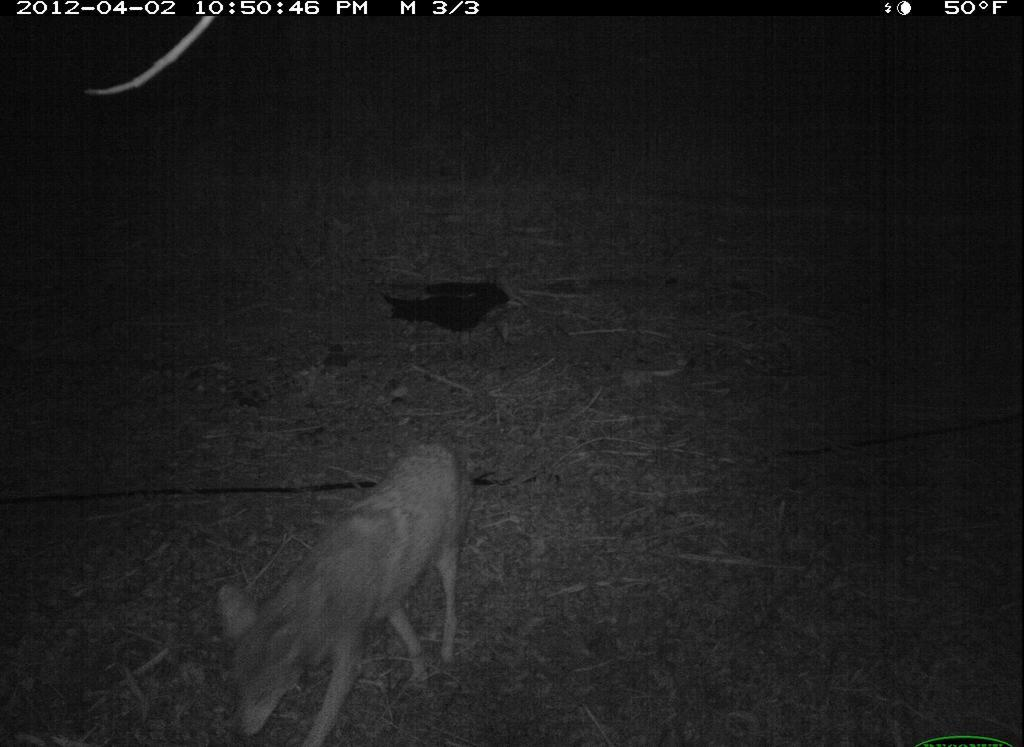coyote: (217, 433, 489, 745)
